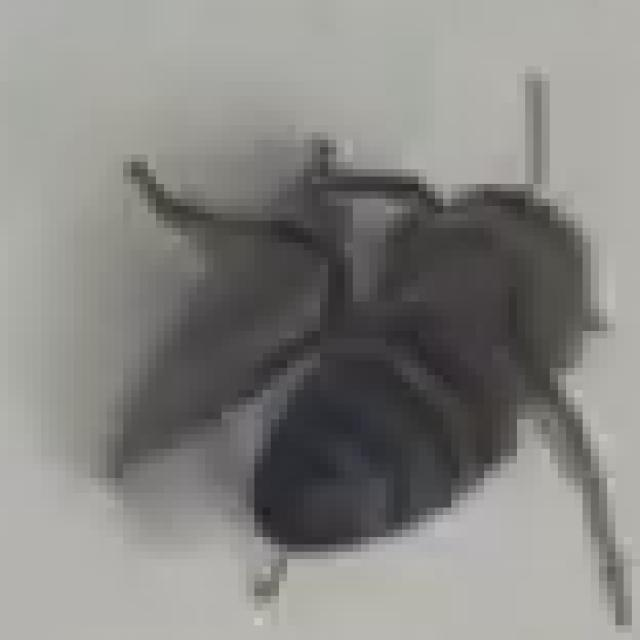honeybee: (150, 183, 600, 532)
